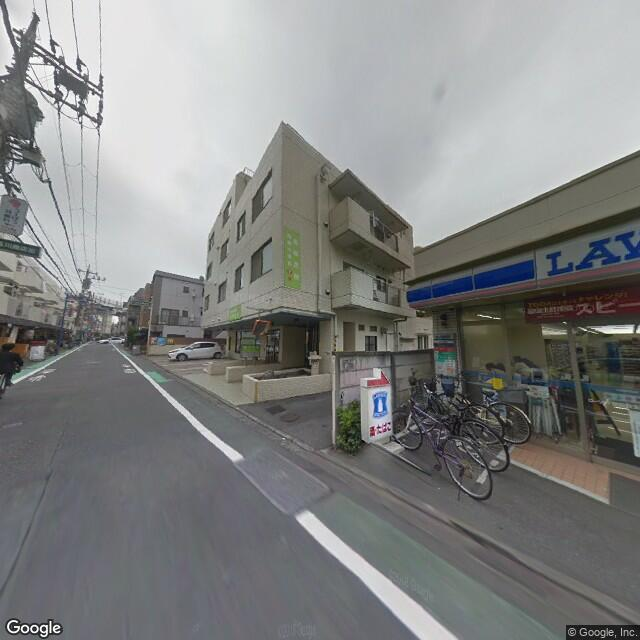lawson: (406, 215, 638, 311), (370, 384, 390, 424)
